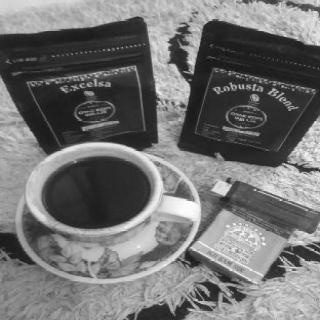objects: (190, 204, 295, 286)
